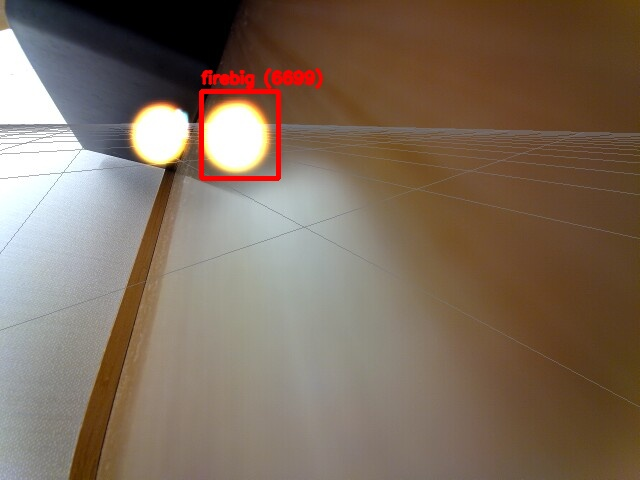firebig: (201, 91, 278, 178)
